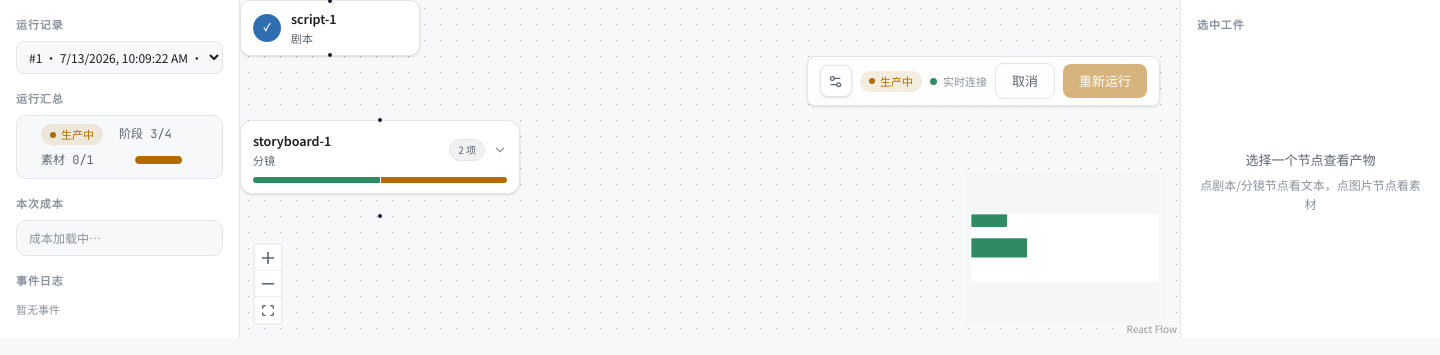
Test case: RunCanvas group container + Run Matrix (PR-3) › 点容器主体 → 右栏渲 Run Matrix（图例 + 汇总），而非 storyboard ItemInspector
The image size is (1440, 355).
What coordinates should you click on to do the following:
click the element with class "react-flow__node" showing "storyboard-1 分镜 2 项"
I would click on:
 (380, 168)
Its box is [240,120,520,216].
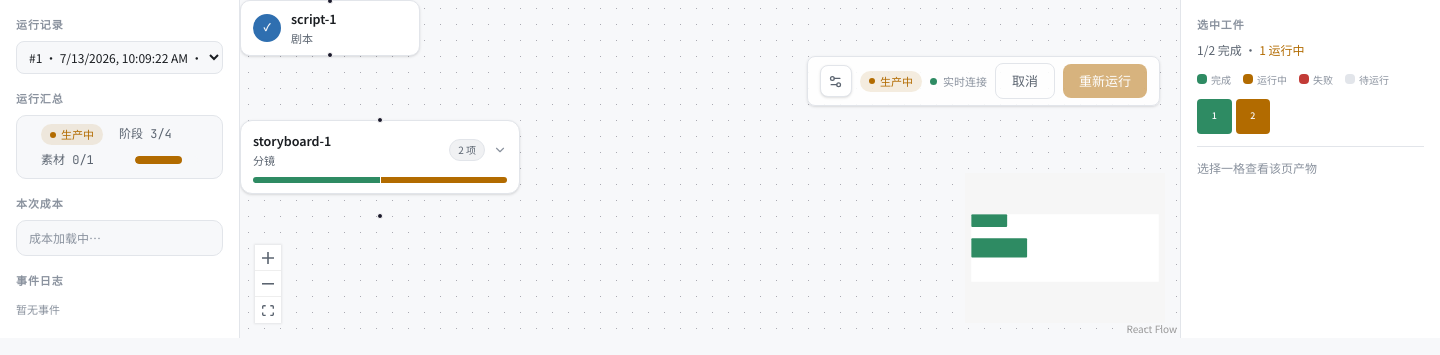
Expected: the element showing "完成 运行中 失败 待运行" is shown, [1197,72,1389,87]
Expected: the text "1/2 完成 · 1 运行中" is shown, [1197,41,1304,58]
